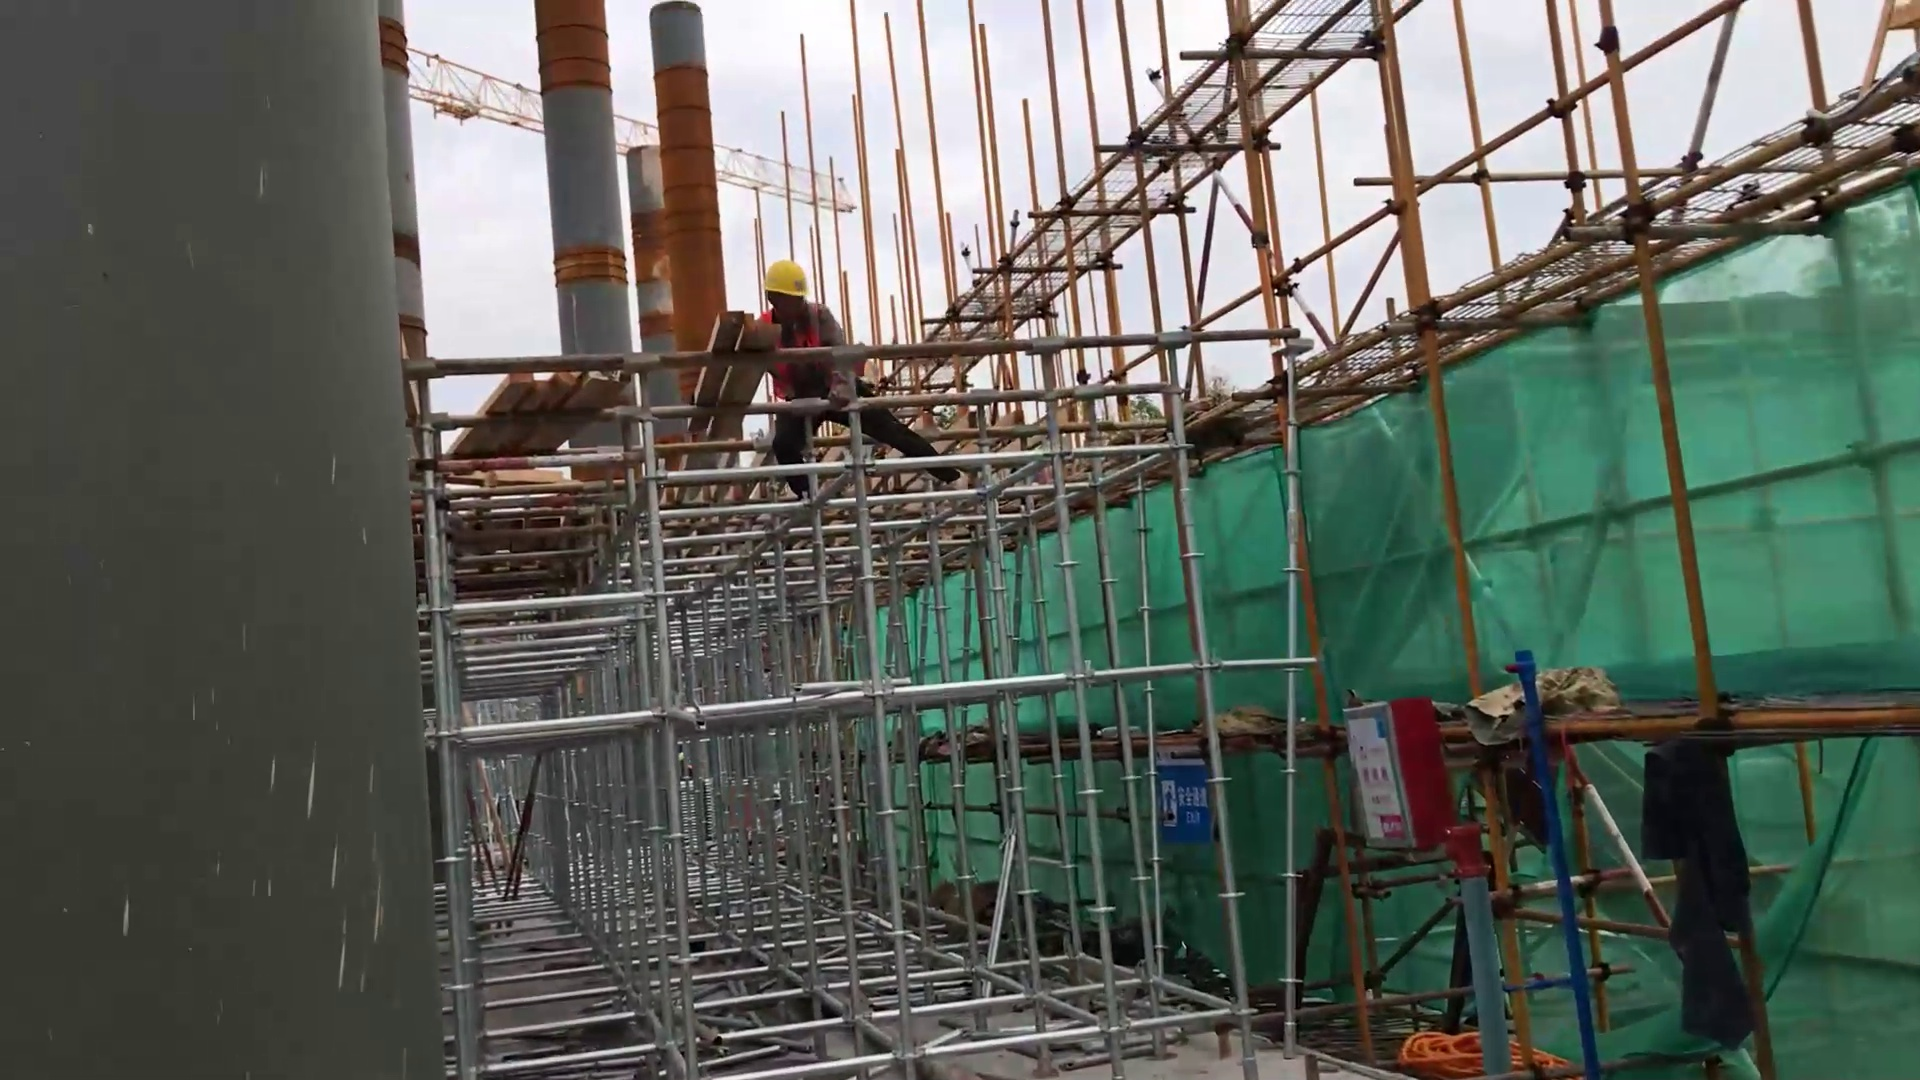helmet: (762, 260, 812, 297)
person: (754, 257, 955, 493)
slogan: (1146, 745, 1217, 841)
vest: (759, 311, 834, 407)
